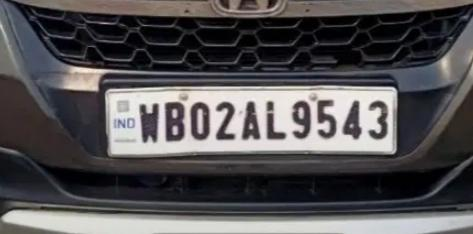0: (189, 95, 214, 147)
2: (214, 95, 239, 149)
3: (366, 91, 395, 151)
4: (338, 95, 367, 146)
5: (314, 96, 337, 147)
9: (289, 96, 313, 144)
A: (239, 97, 264, 145)
B: (162, 95, 188, 145)
L: (263, 94, 290, 144)
W: (133, 95, 162, 147)
